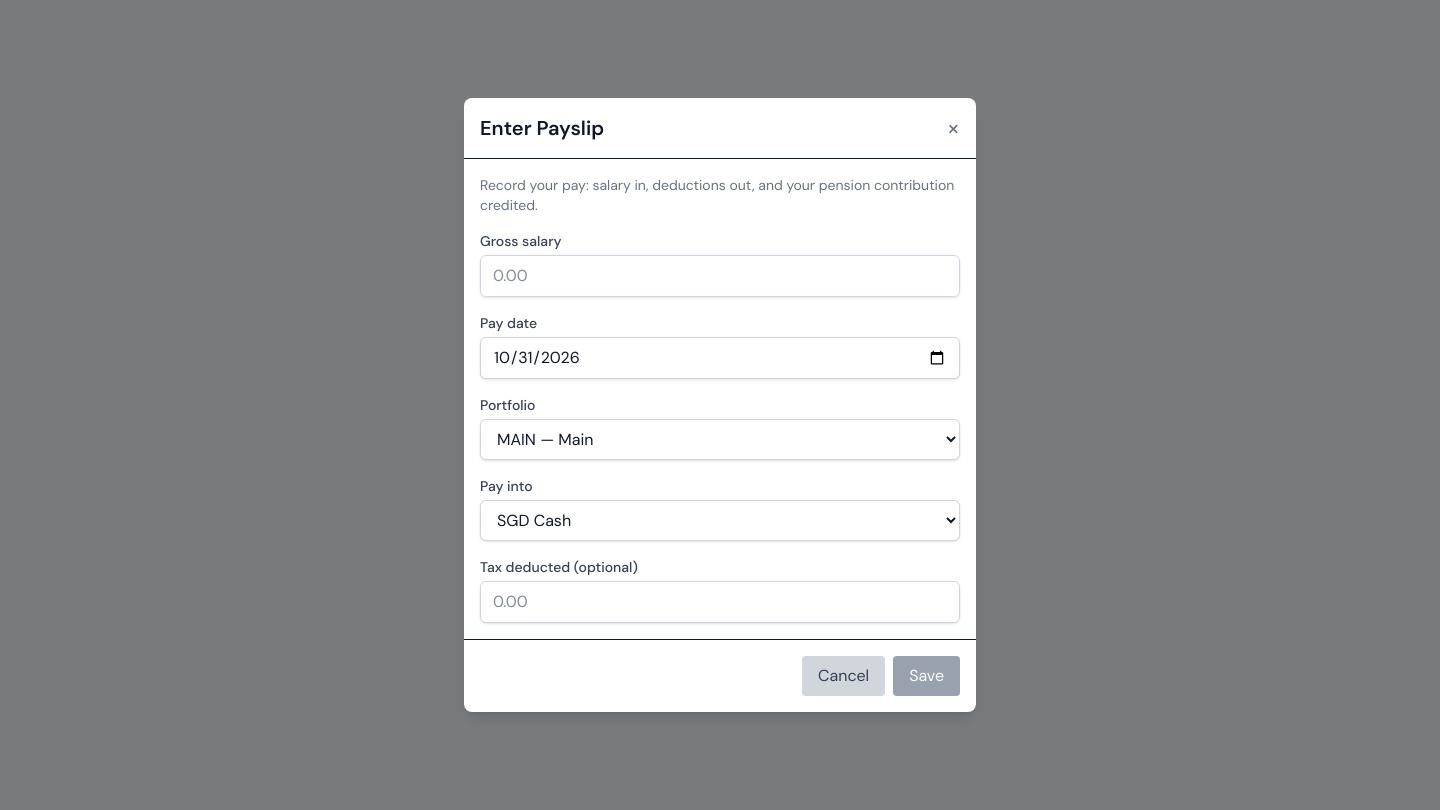
PayslipModal › blocks save when Pay date is cleared
The image size is (1440, 810).
Type "4000" into the field named "Gross salary" at (720, 276), box [480,255,960,297]
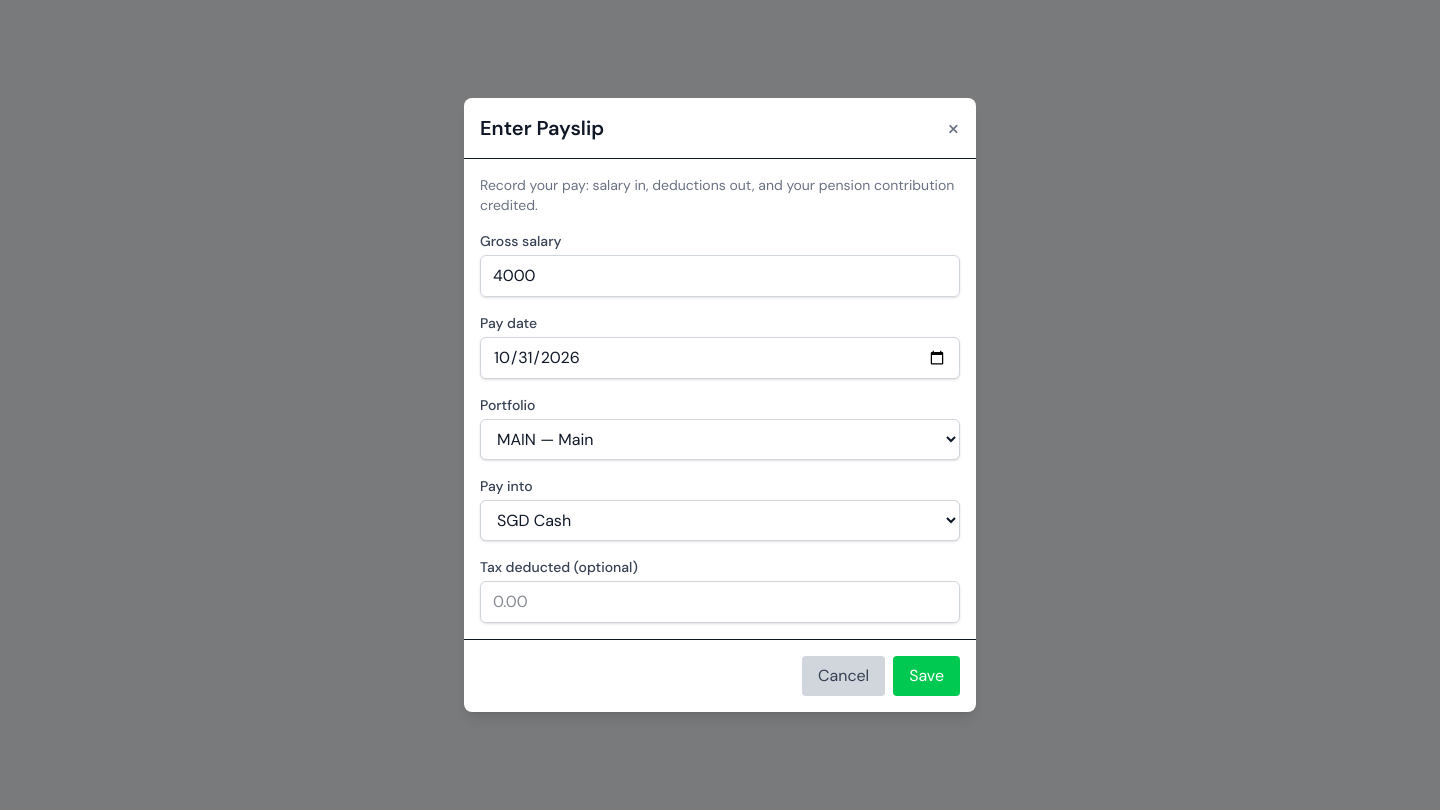
Clear the date field labelled "Pay date" at (720, 358), box [480,337,960,379]
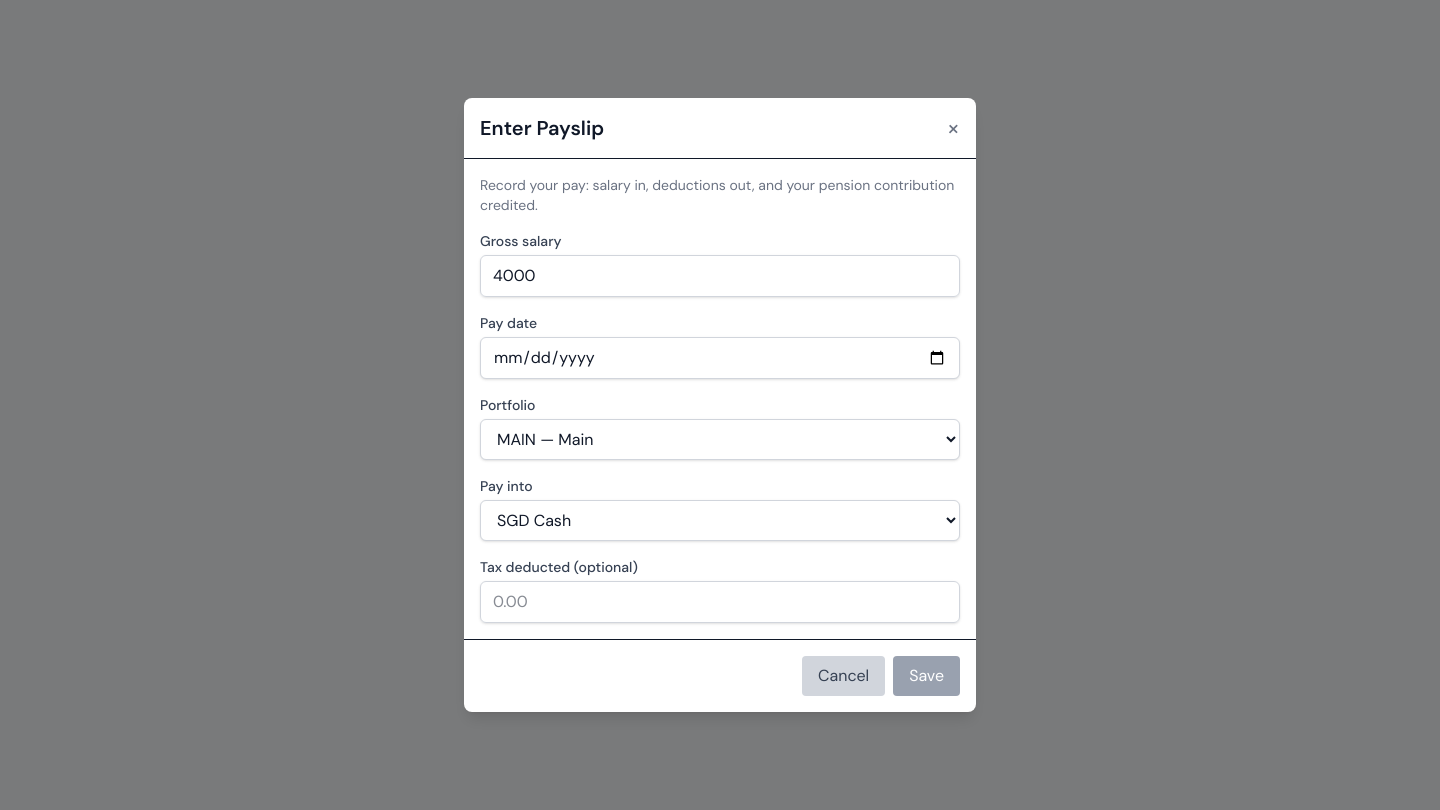
Expected: the button "Save" is disabled, [893,656,960,696]
